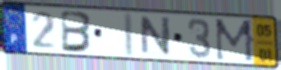2: (30, 10, 57, 50)
3: (186, 16, 213, 61)
B: (60, 9, 94, 55)
I: (123, 11, 136, 58)
M: (213, 17, 256, 64)
N: (139, 15, 172, 57)
